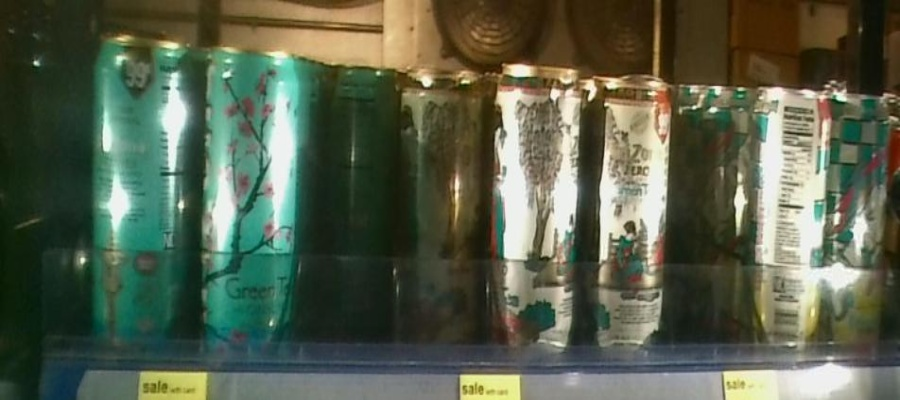bottle: (88, 34, 199, 356), (200, 40, 307, 331), (489, 60, 588, 264), (752, 73, 834, 264), (592, 76, 673, 267), (397, 57, 475, 235), (837, 87, 893, 267), (324, 60, 385, 219)
